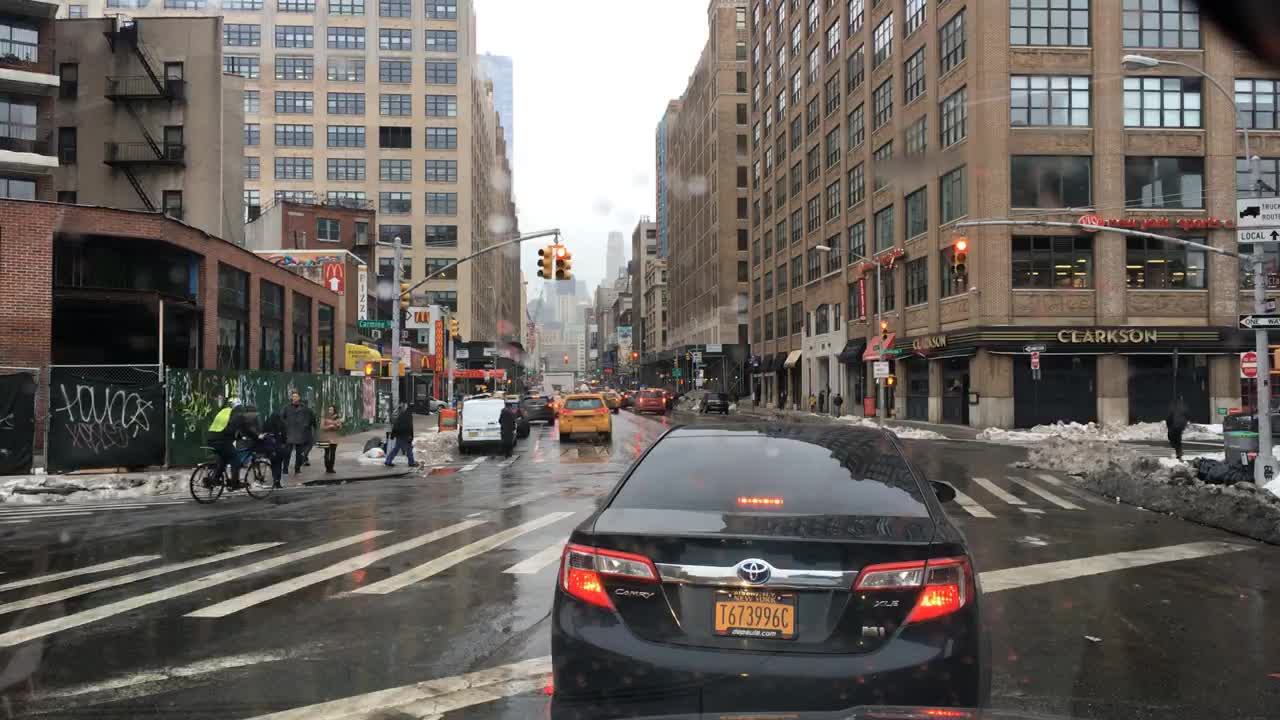bike: (192, 436, 275, 505)
car: (547, 422, 991, 717), (557, 385, 613, 439), (1222, 394, 1279, 443), (457, 398, 506, 449), (504, 400, 531, 437), (525, 391, 554, 425), (696, 391, 731, 414), (633, 390, 665, 414), (601, 391, 621, 410), (427, 395, 446, 411), (665, 388, 677, 411), (623, 390, 636, 409)
person: (281, 391, 313, 475), (385, 401, 417, 466), (262, 411, 286, 491), (317, 406, 345, 471), (1164, 390, 1189, 460), (237, 400, 258, 462), (298, 398, 313, 466), (499, 401, 516, 456), (833, 391, 843, 413), (807, 391, 816, 414), (778, 390, 786, 411), (731, 390, 741, 406), (817, 389, 823, 411)
rider: (207, 398, 267, 490)
traffic light: (952, 239, 969, 275), (556, 247, 571, 281), (536, 245, 549, 281), (361, 358, 379, 378), (401, 281, 413, 309), (1270, 345, 1278, 373), (392, 364, 409, 376), (451, 319, 459, 339), (880, 321, 888, 339), (885, 376, 895, 386), (631, 351, 638, 365), (562, 355, 567, 366)
traffic sign: (1235, 199, 1278, 242), (1239, 315, 1278, 328), (1239, 351, 1255, 376), (874, 361, 888, 381), (359, 321, 393, 328), (1265, 269, 1276, 290), (1026, 350, 1038, 369), (1025, 344, 1044, 353), (1263, 298, 1276, 310), (691, 349, 701, 364), (880, 348, 900, 355), (672, 369, 682, 379)
truck: (539, 369, 574, 394)
